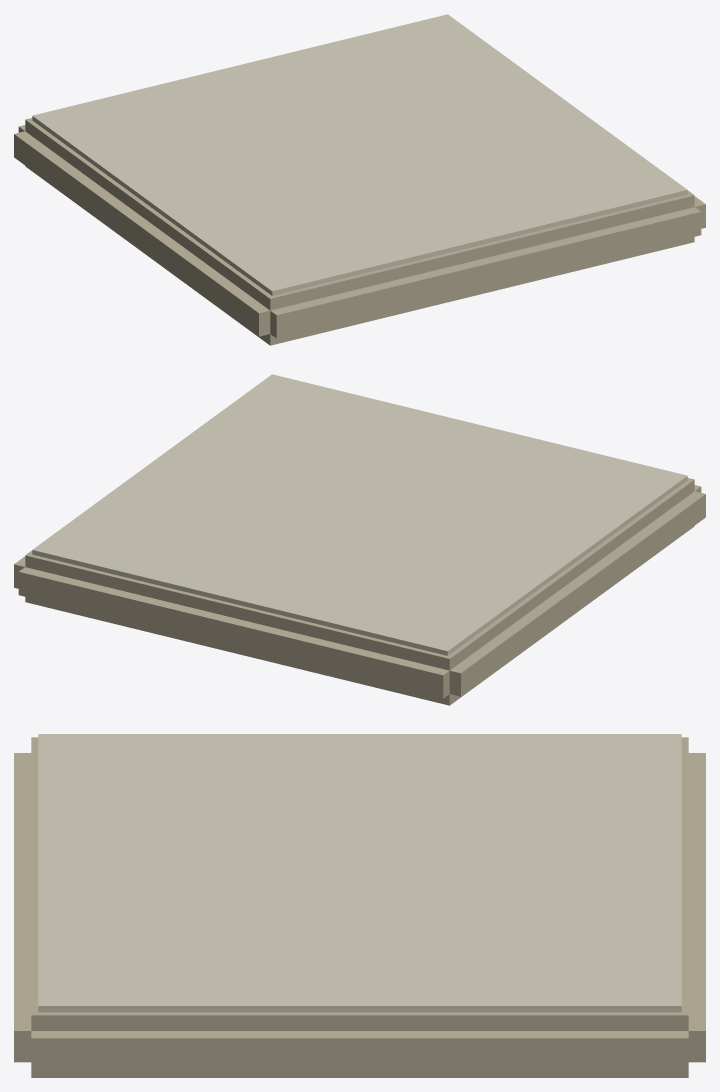
The model's file is Block_Road_Dirt.glb.
The picture shows the model from 3 angles, top to bottom: view 1: azimuth 30°, elevation 25°; view 2: azimuth 150°, elevation 25°; view 3: azimuth 270°, elevation 25°; orthographic projection. The views are drawn at different scales.
Parts seen in each view (by area): view 1: geometry_0; view 2: geometry_0; view 3: geometry_0.
Part boxes in pixels (box(x1,y1,x2,y2)): geometry_0: box(14, 14, 705, 345); geometry_0: box(14, 374, 705, 705); geometry_0: box(14, 734, 705, 1077).
Bounding box in the file's own units: 2 × 0.22 × 2.
